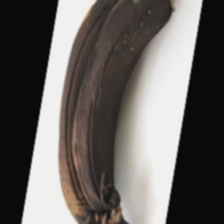banana: (37, 13, 202, 168)
